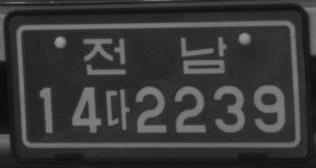1: (35, 86, 59, 134)
2: (134, 84, 168, 135), (173, 84, 207, 134)
3: (212, 84, 246, 134)
4: (70, 86, 102, 134)
9: (252, 83, 287, 135)
다: (104, 87, 131, 131)
전남_D: (82, 35, 227, 76)
